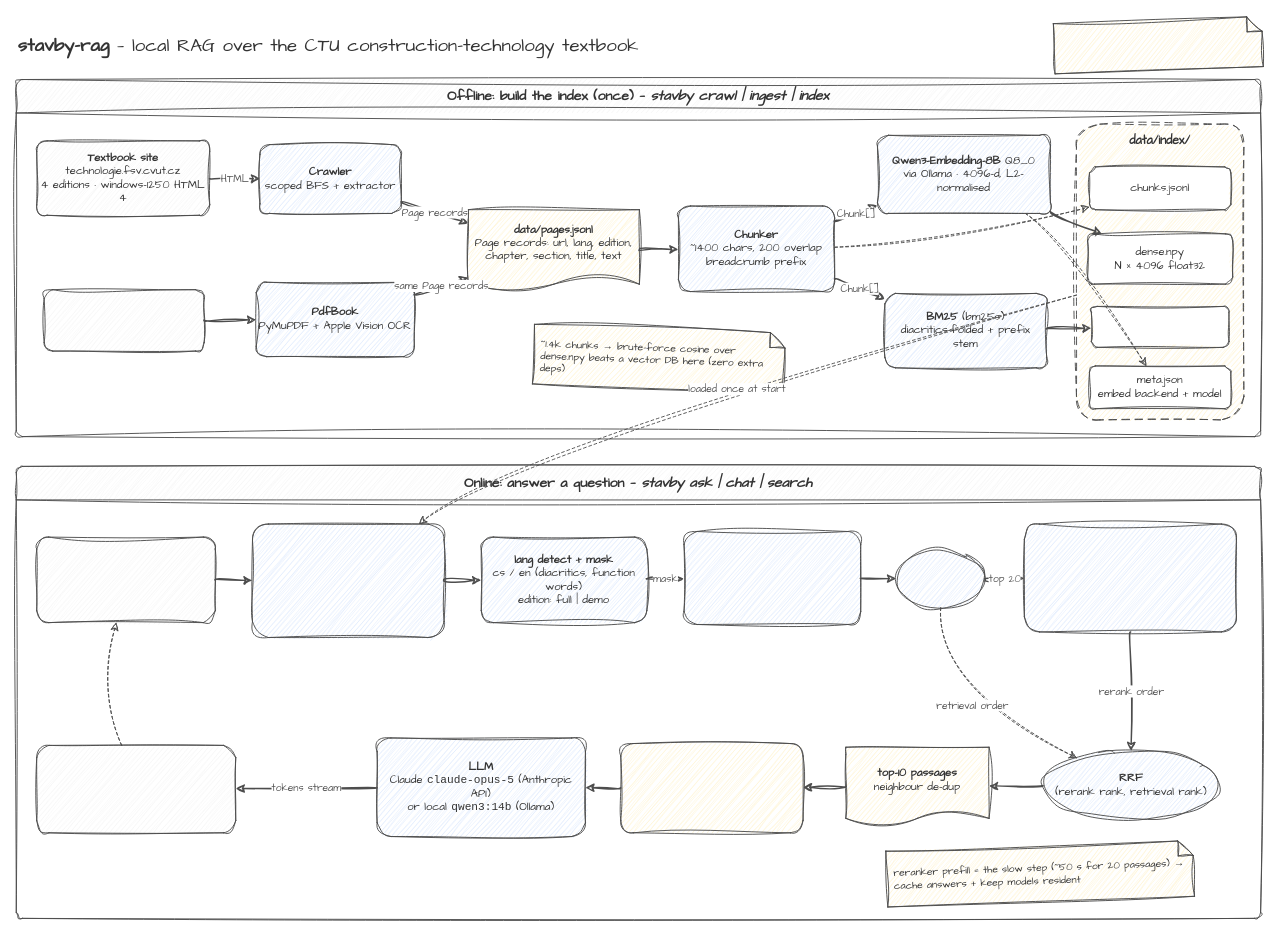
Image size: 1280x935. Some labels were removed from this diagram. Each missing label, with the centre of its shape:
"bm25/" belongs at point 1159,326.
"dense top-40 ∪ BM25 top-40 cosine over dense.npy + bm25s query" belongs at point 772,577.
"Engine index loaded once in memory models kept warm query / answer cache" belongs at point 348,580.
"everything runs on one laptop (24 GB Mac: Ollama + Python, no services)" belongs at point 1157,44.
"PDF books scanned / broken text layer" belongs at point 123,320.
"prompt system rules + numbered passages + question (answer in its language)" belongs at point 711,788.
"Question CLI stavby ask / chat or Web UI / REST API" belongs at point 125,579.
"Qwen3-Reranker-8B Q8_0 P(yes) from Ollama logprobs on the top 20 candidates" belongs at point 1129,577.
"RRF k=60" belongs at point 940,578.
"streamed answer [n] citations + source links back to the textbook pages" belongs at point 136,788.
